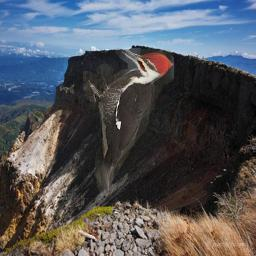Woodpecker: (83, 48, 174, 196)
